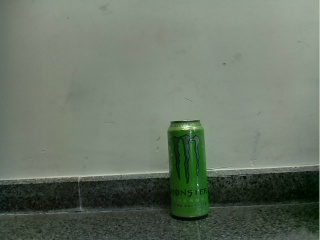botella plastico: (166, 119, 210, 219)
